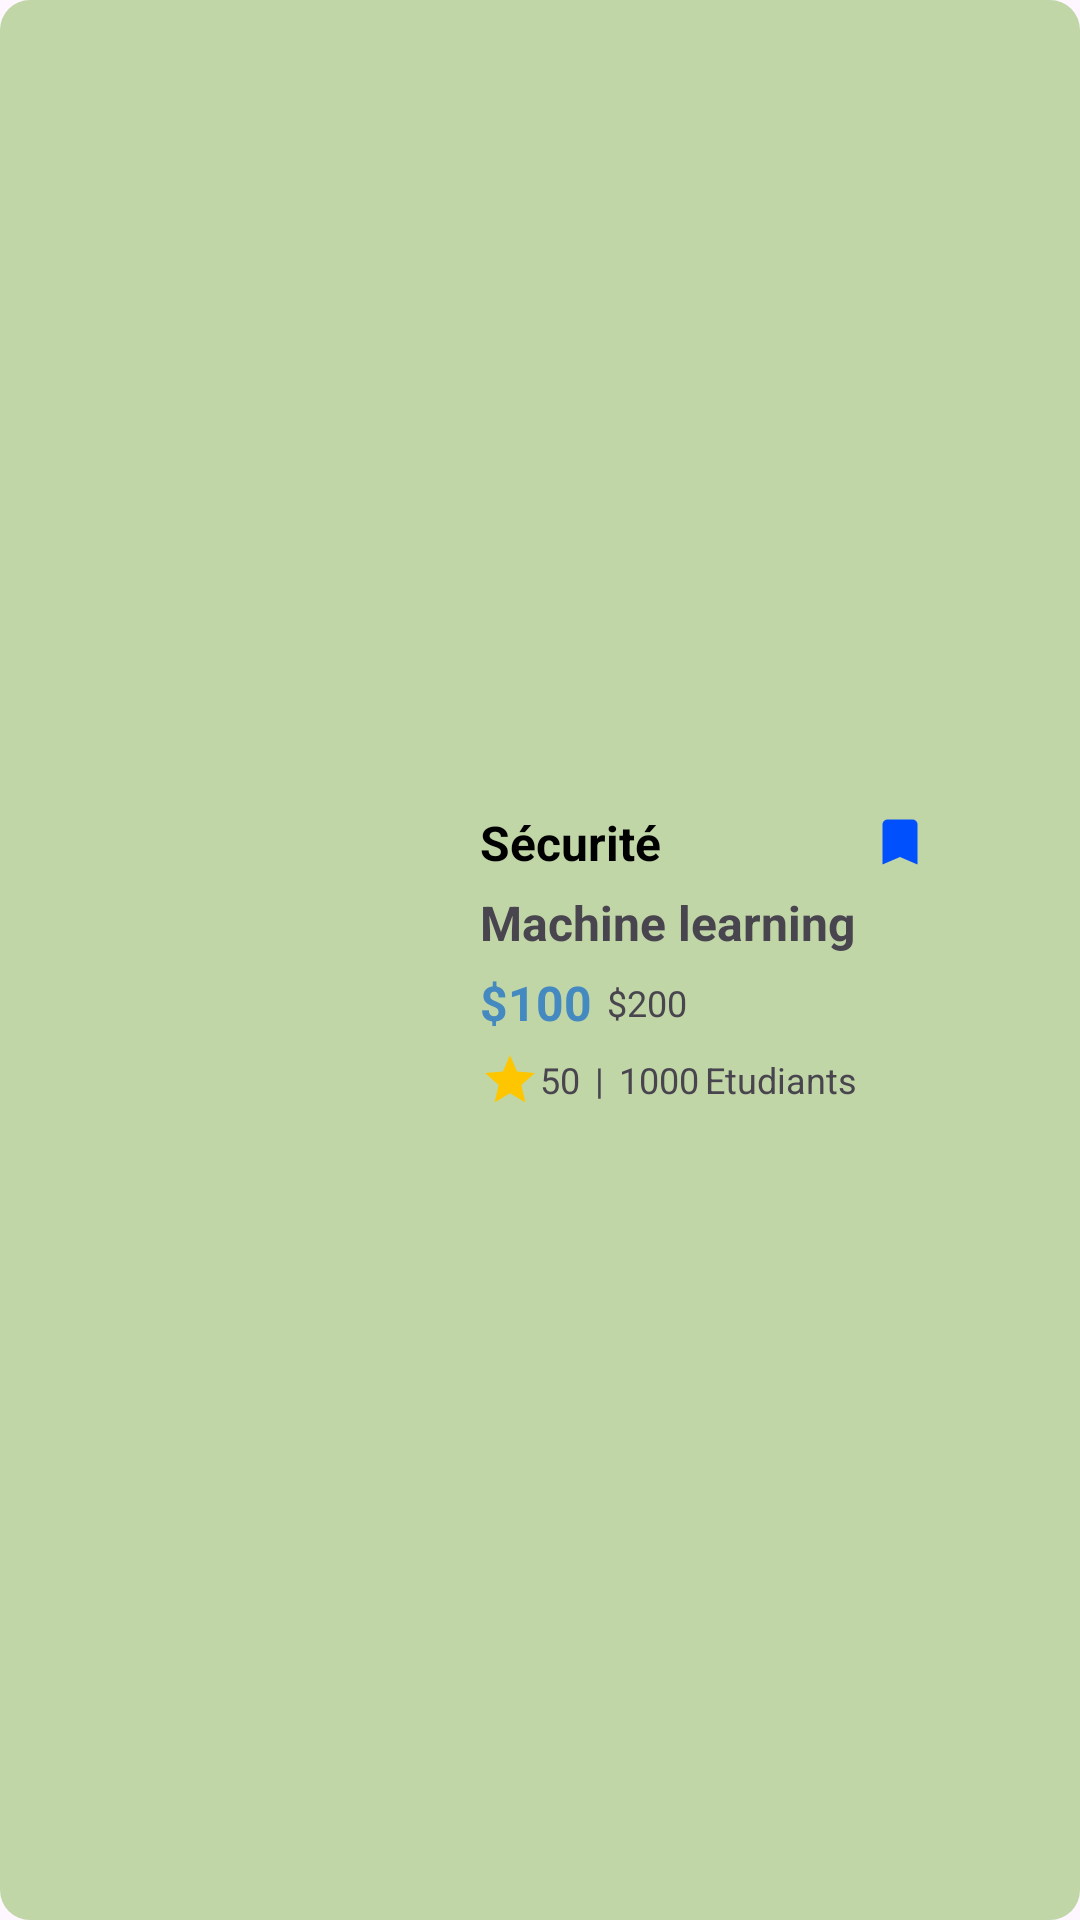

Screen size 1080 × 1920. Icon name, then its center in pixels as [x,y]:
bookmark: [900,842]
star: [510,1078]
